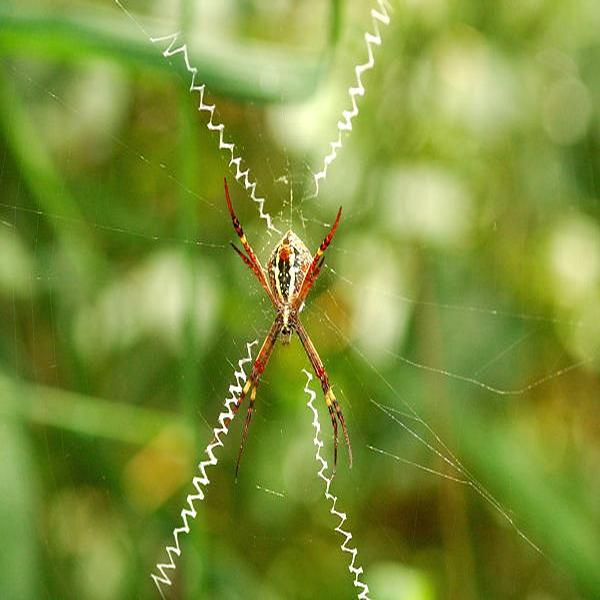St Andrew's Cross Spider: (221, 179, 354, 481)
